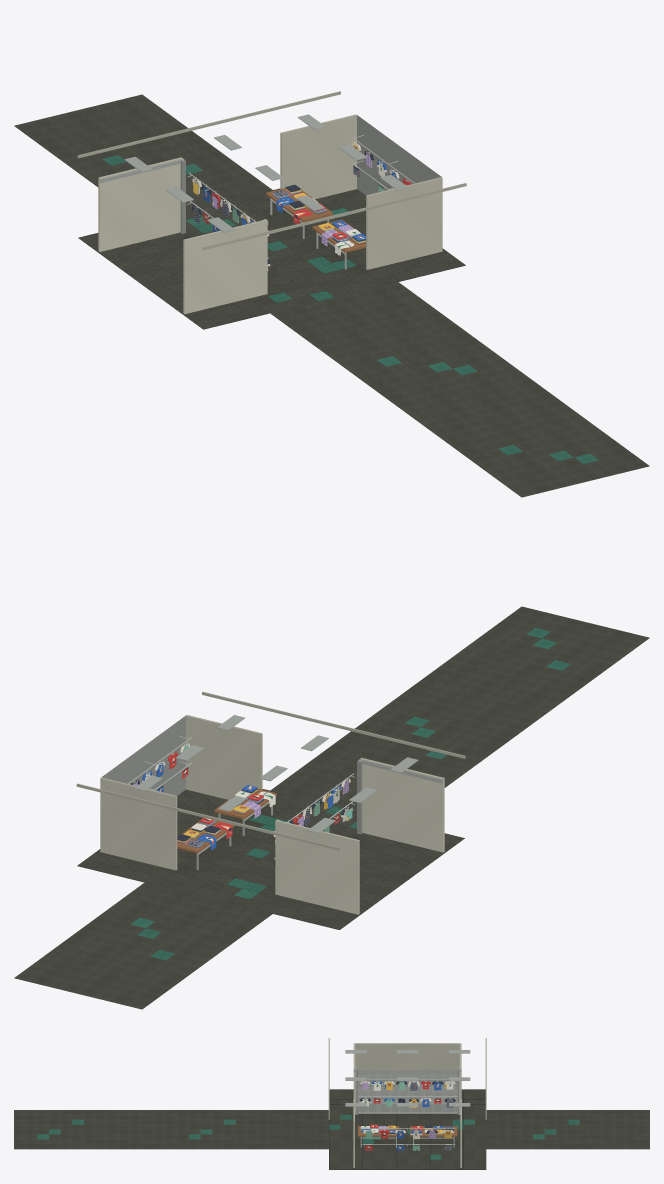
File: childrens-aisle.glb
The picture shows the model from 3 angles, top to bottom: view 1: azimuth 30°, elevation 25°; view 2: azimuth 150°, elevation 25°; view 3: azimuth 270°, elevation 25°; orthographic projection. The views are drawn at different scales.
Parts seen in each view (by area): view 1: ChildrensAisle; view 2: ChildrensAisle; view 3: ChildrensAisle.
Part boxes in pixels (x1,y1,x2,y2): ChildrensAisle: [14, 91, 649, 497]; ChildrensAisle: [14, 606, 649, 1009]; ChildrensAisle: [14, 1038, 649, 1169].
Size of the model in its own units: 10.04 by 3 by 33.6.
Materials: 1 (1 with a texture image).
